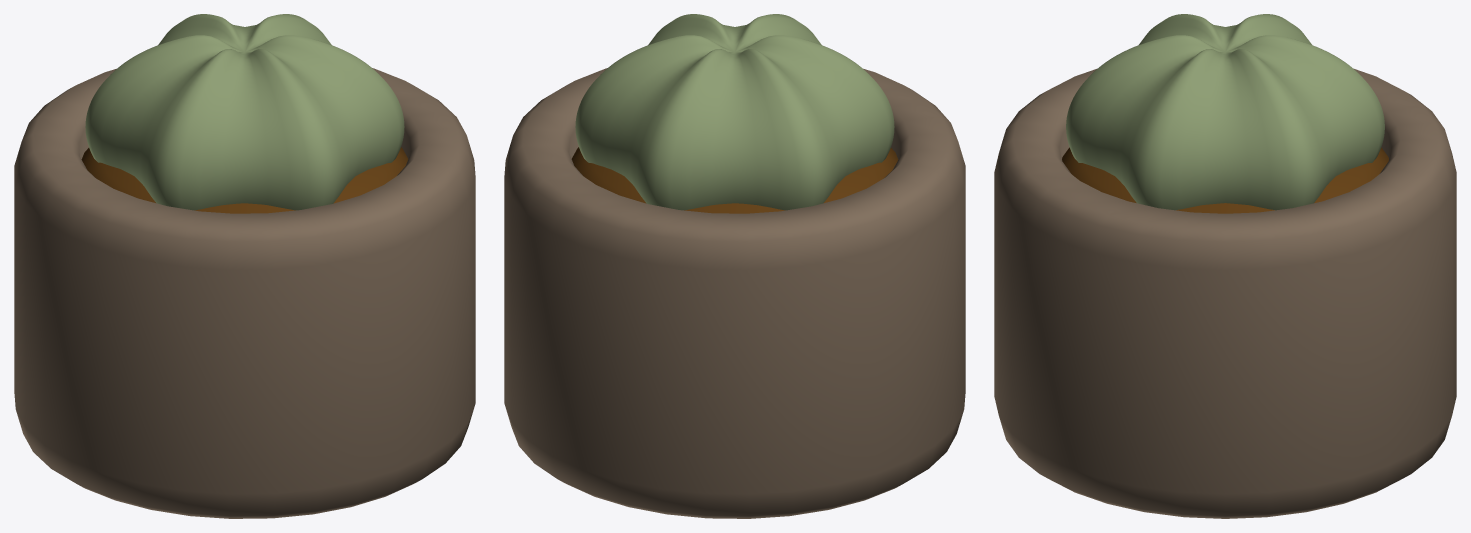
File: plantpot1.fbx
3 renders of one model, left to right at view 1: azimuth 30°, elevation 25°; view 2: azimuth 150°, elevation 25°; view 3: azimuth 270°, elevation 25°, orthographic.
Visible parts, largest first — view 1: Small_Plant_Pot_01, Small_Plant_Pot_01_Plant, Small_Plant_Pot_01_Soil; view 2: Small_Plant_Pot_01, Small_Plant_Pot_01_Plant, Small_Plant_Pot_01_Soil; view 3: Small_Plant_Pot_01, Small_Plant_Pot_01_Plant, Small_Plant_Pot_01_Soil.
Boxes of the visible parts, x1,y1,x2,y2 form: Small_Plant_Pot_01: [14, 68, 475, 518]; Small_Plant_Pot_01_Plant: [85, 14, 404, 210]; Small_Plant_Pot_01_Soil: [81, 147, 408, 213]; Small_Plant_Pot_01: [504, 68, 965, 518]; Small_Plant_Pot_01_Plant: [575, 14, 894, 210]; Small_Plant_Pot_01_Soil: [571, 147, 898, 213]; Small_Plant_Pot_01: [994, 69, 1456, 518]; Small_Plant_Pot_01_Plant: [1066, 14, 1384, 210]; Small_Plant_Pot_01_Soil: [1062, 147, 1388, 213].
Size of the model in its own units: 36.38 by 34.2 by 36.38.
